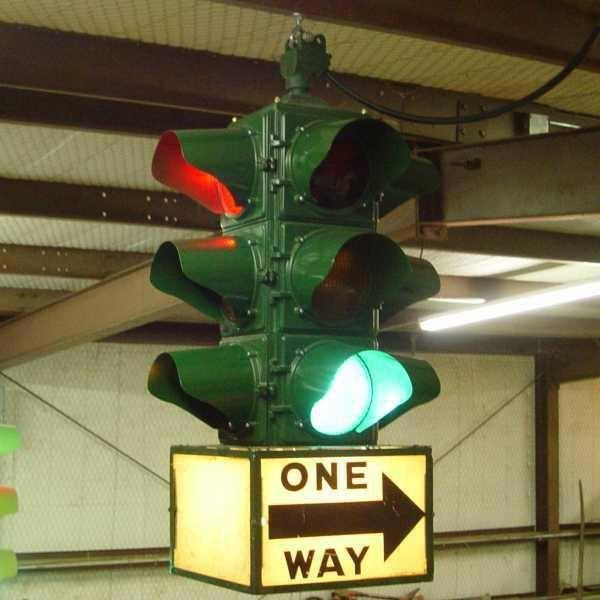green: (279, 109, 418, 453), (293, 342, 419, 452)
red: (147, 125, 274, 455), (149, 128, 264, 221)
